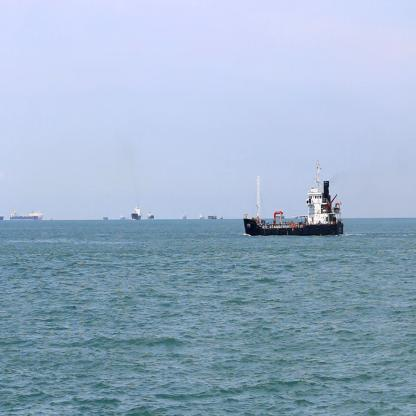Container Ship: (242, 157, 345, 239), (9, 207, 43, 222), (132, 200, 144, 221), (146, 208, 156, 223), (207, 212, 217, 222), (179, 212, 188, 223), (118, 215, 127, 223), (199, 213, 206, 222), (218, 212, 224, 222), (102, 215, 110, 222)
